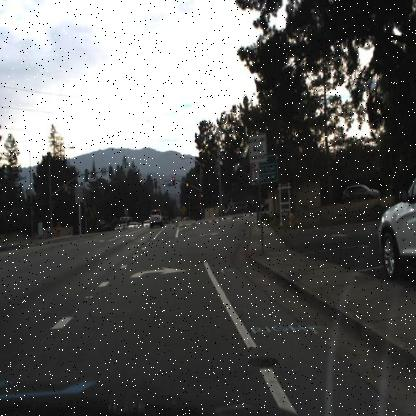car: (378, 176, 416, 281), (340, 178, 380, 207), (224, 200, 248, 218), (145, 207, 160, 230)
